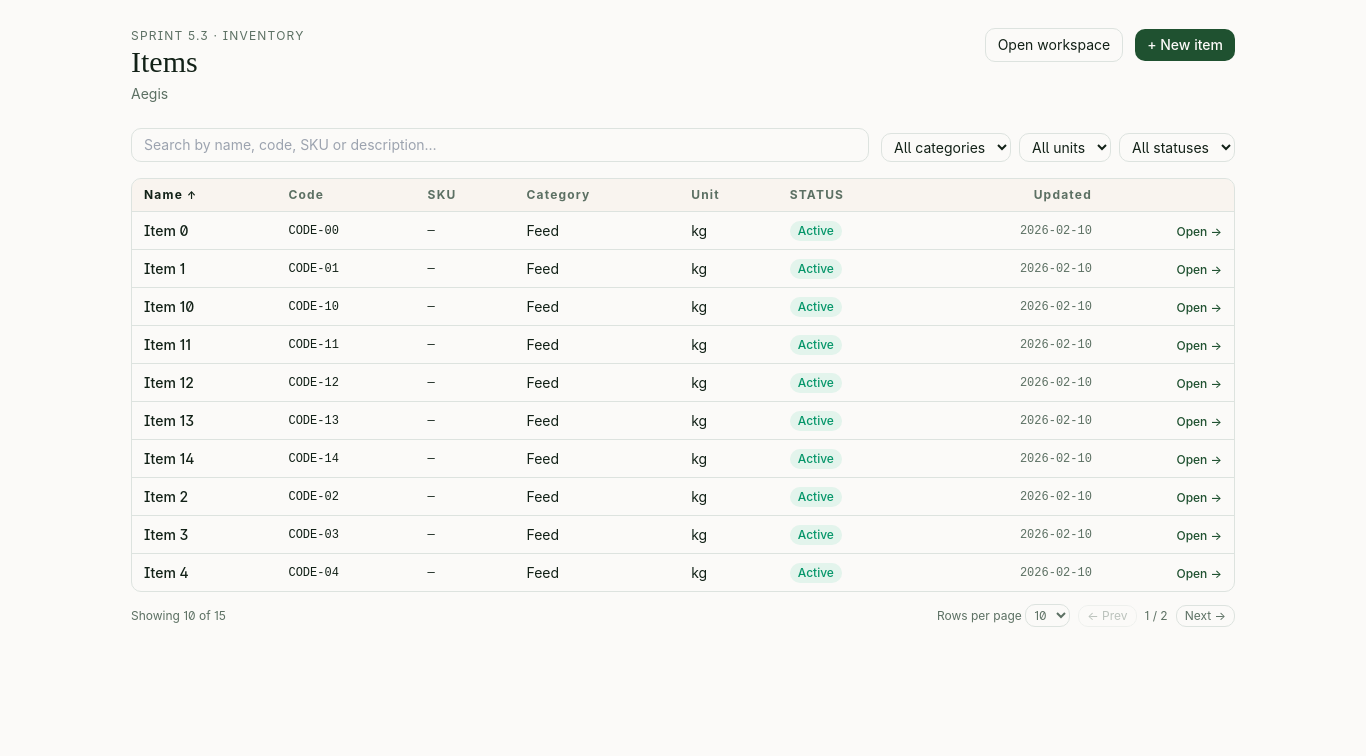
Test: InventoryItemListPage › pagination page-size + prev/next work
The image size is (1366, 756).
Expected: the text with test id "item-list-page-indicator" reads "1 / 2", 1144,608 -> 1168,624
Click the button with test id "item-list-next". click: click(1205, 616)
box: 1176,604 -> 1235,626
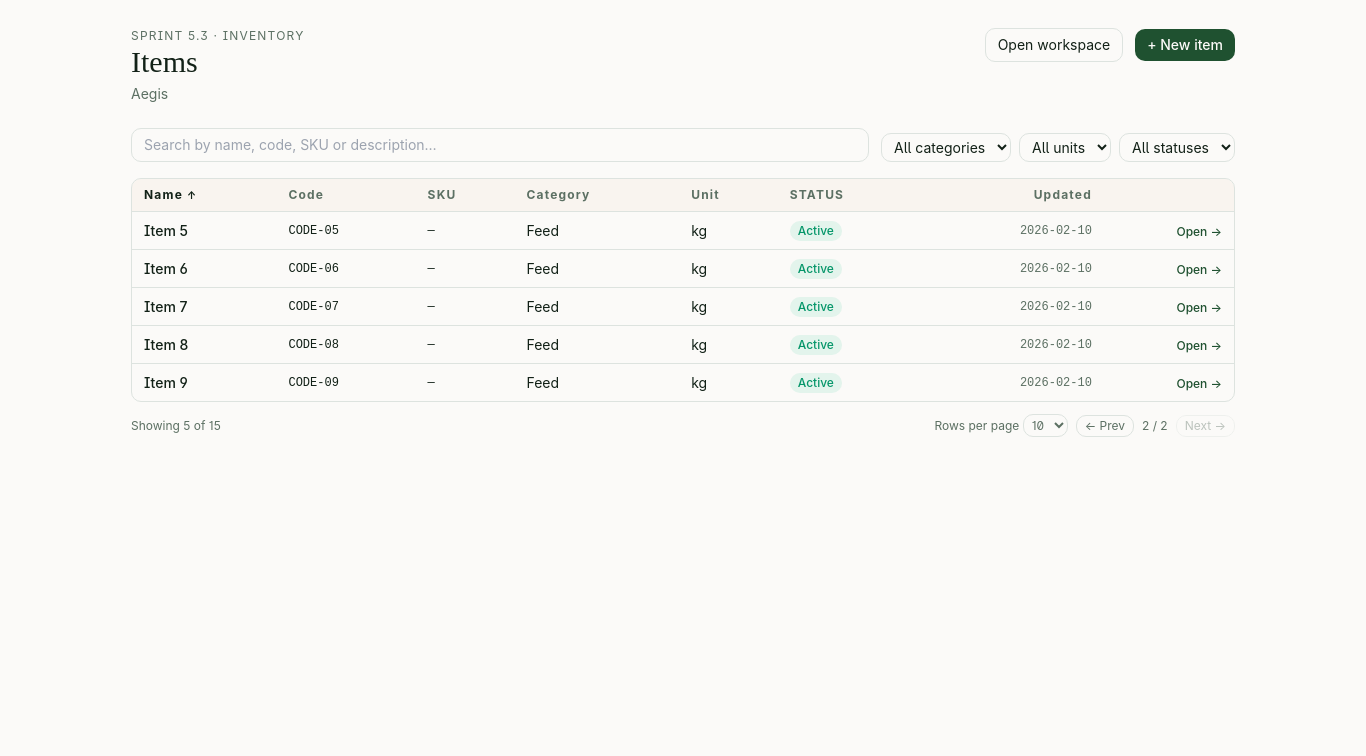
Now the text with test id "item-list-page-indicator" reads "2 / 2", box 1142,418 -> 1168,434
Note: Reset by upping page size.
Select "25" in the dropdown with test id "item-list-page-size". click: (1045, 426)
box: 1023,414 -> 1068,437
(page scrolled)
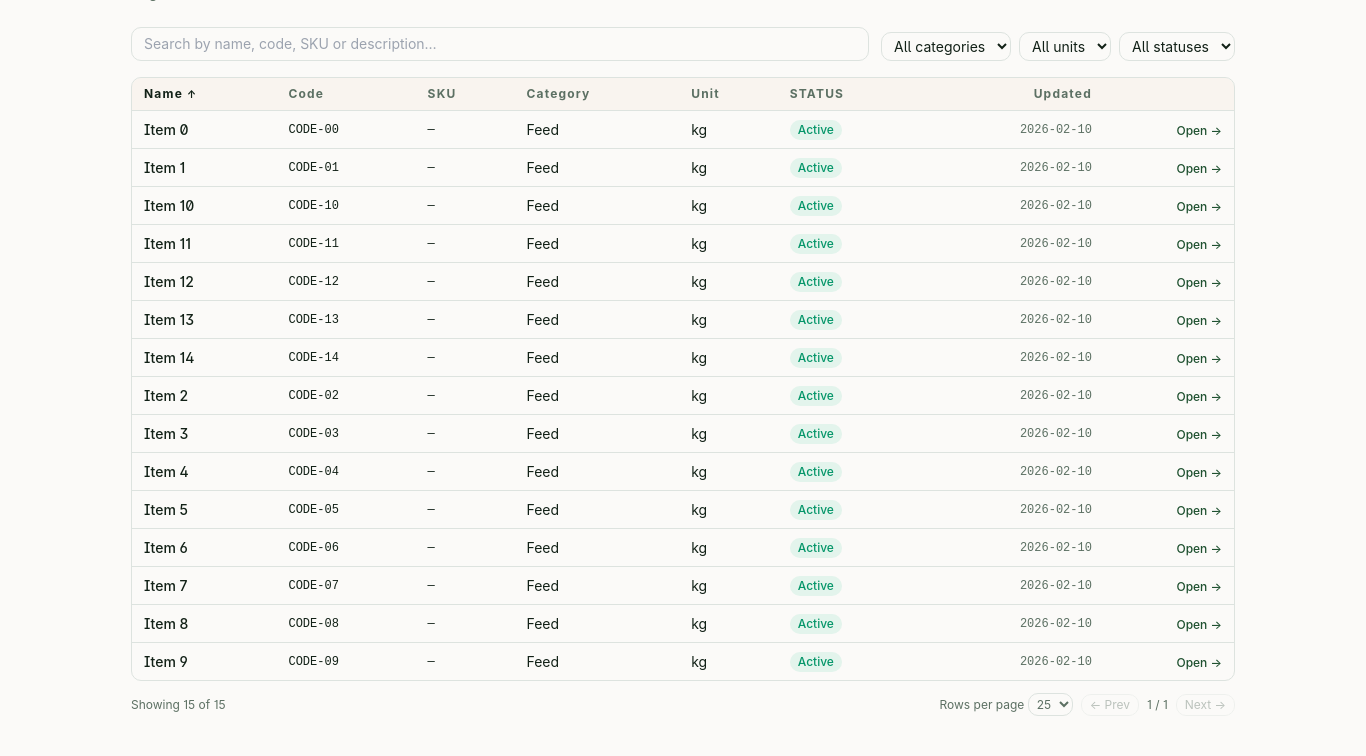
Now the text with test id "item-list-page-indicator" reads "1 / 1", box 1147,696 -> 1168,712
